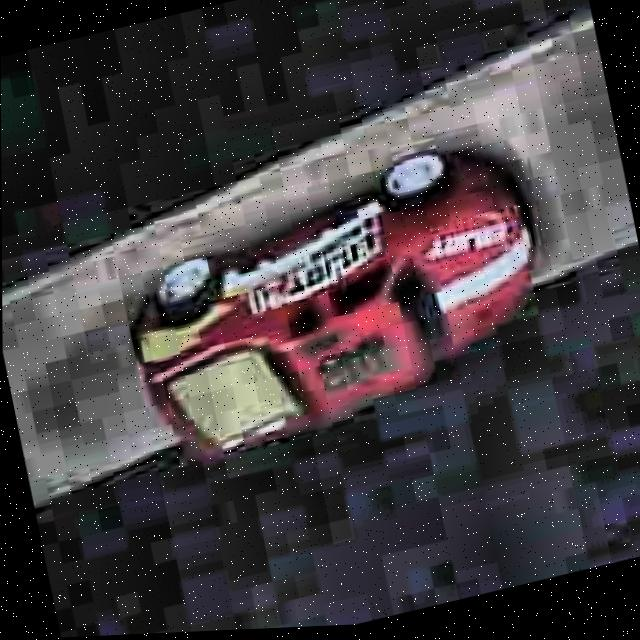car: (105, 125, 568, 482)
